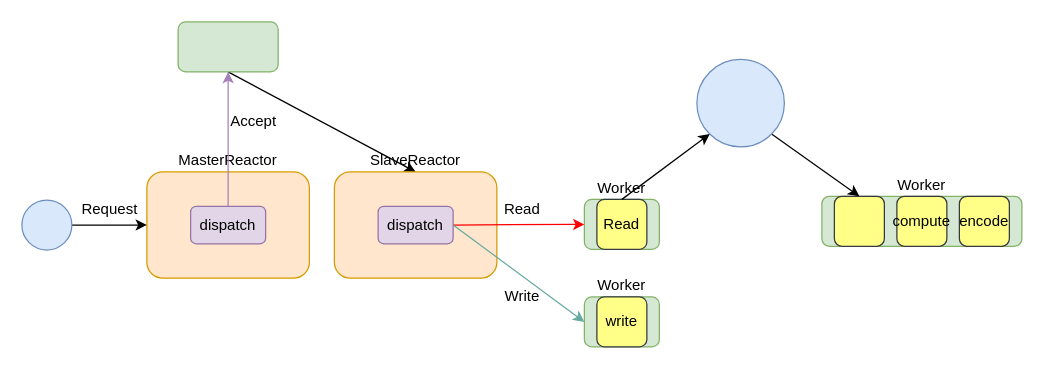
The diagram is 1044 pixels wide and 369 high, and some of its shapes have lost their labels. The shapes that lost their labels are listed below. From the top down, each one's centre as x and y in pixels, then its label:
At pixel 227 46: "Accepter".
At pixel 740 102: "ThreadPool".
At pixel 46 224: "Client".
At pixel 858 220: "decode".
